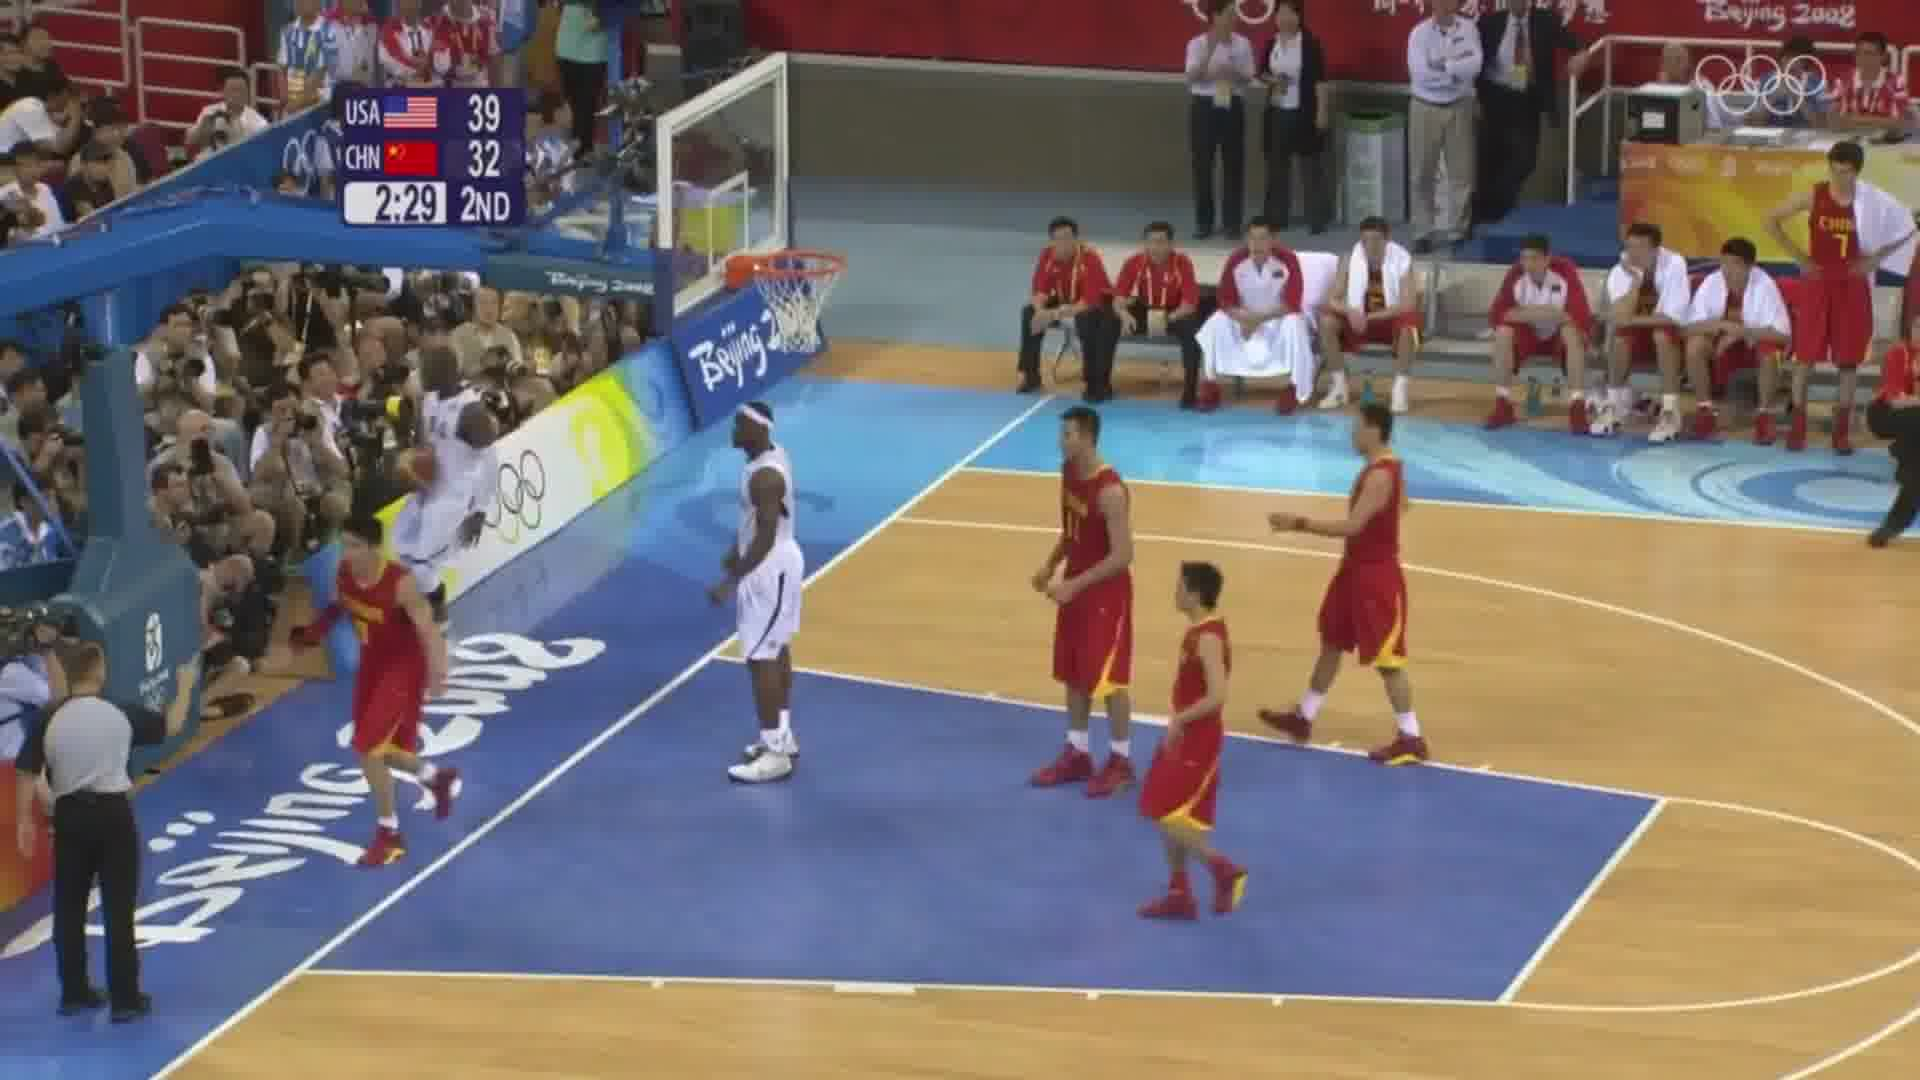ball: (388, 440, 446, 500)
net: (750, 244, 852, 357)
